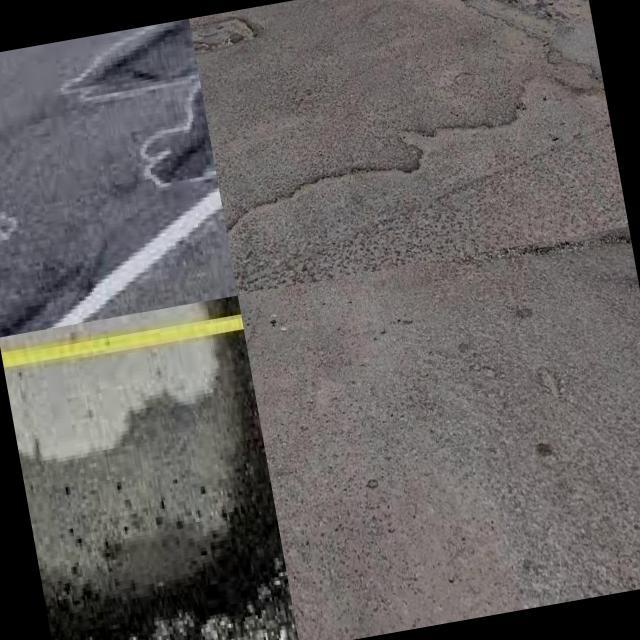Pothole: (18, 332, 298, 640), (104, 21, 198, 80), (151, 97, 214, 176), (189, 15, 259, 56)
